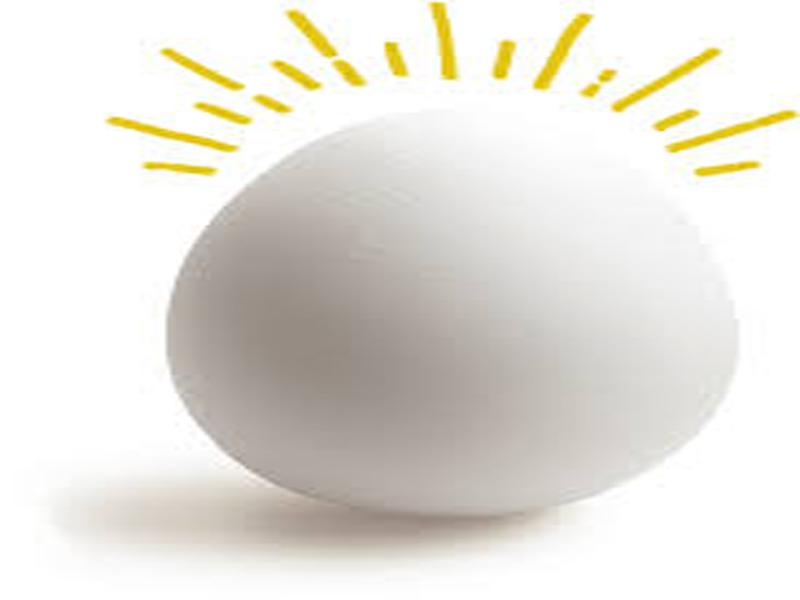Eggs: (166, 112, 743, 516)
